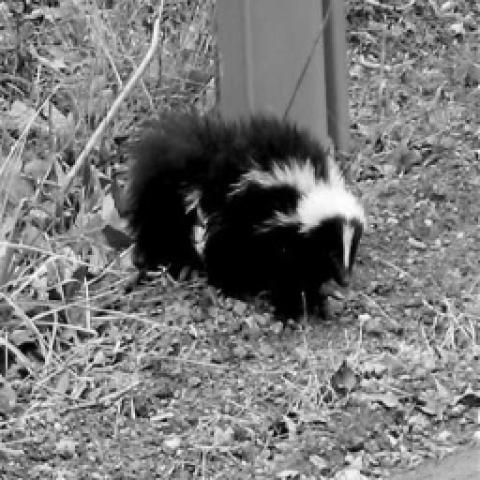small_animal: (118, 105, 368, 324)
